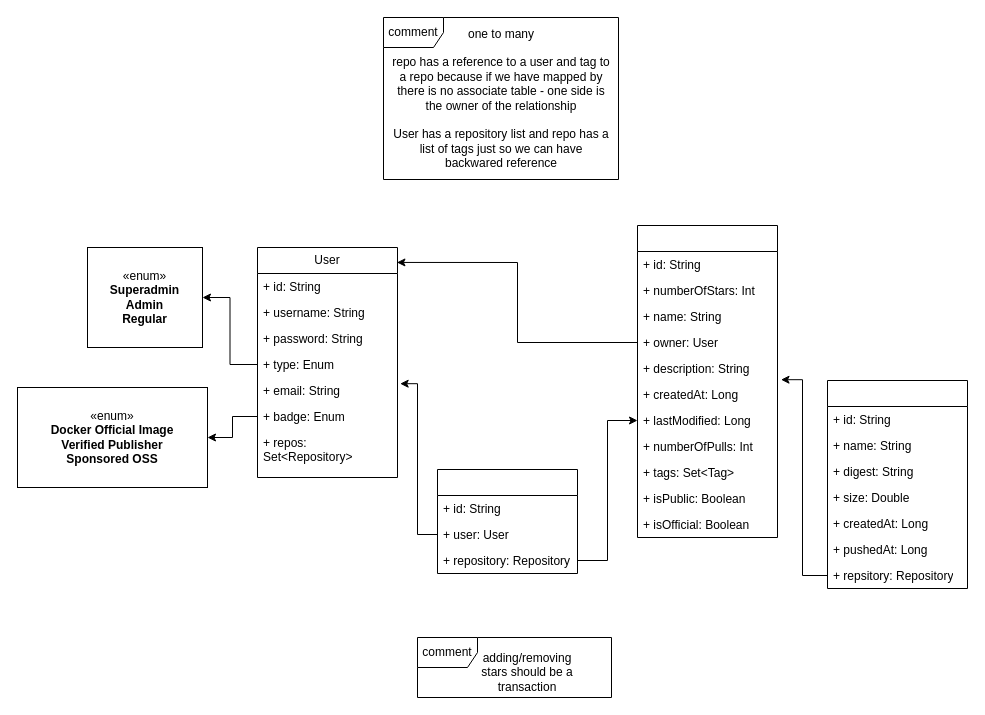
Some shapes in this 985 by 715 pixel diagram are drawn without their labels. Here are the shapes that lost their labels. From the top down, the box of each, then its label:
(636, 224, 778, 538): Repository
(826, 380, 968, 588): Tag
(436, 468, 578, 574): Star
